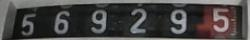digits: (168, 8, 187, 34), (90, 8, 107, 34), (211, 8, 229, 32), (129, 8, 146, 33), (53, 10, 70, 34), (20, 12, 36, 36)
